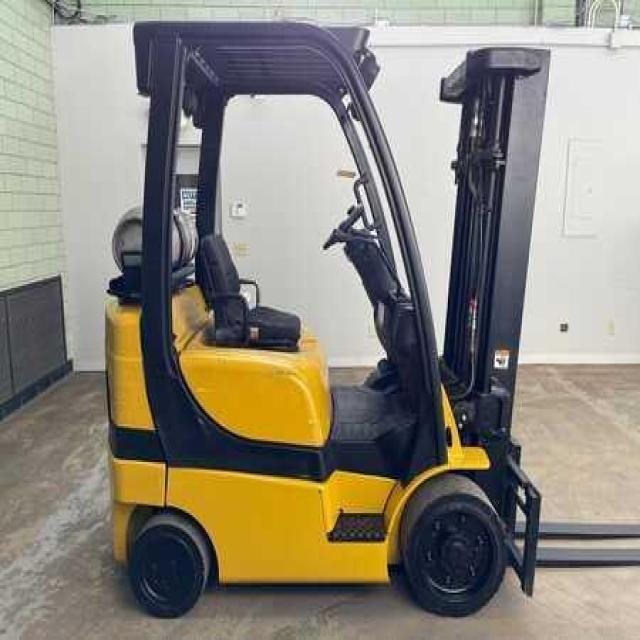forklift: (104, 21, 544, 621)
